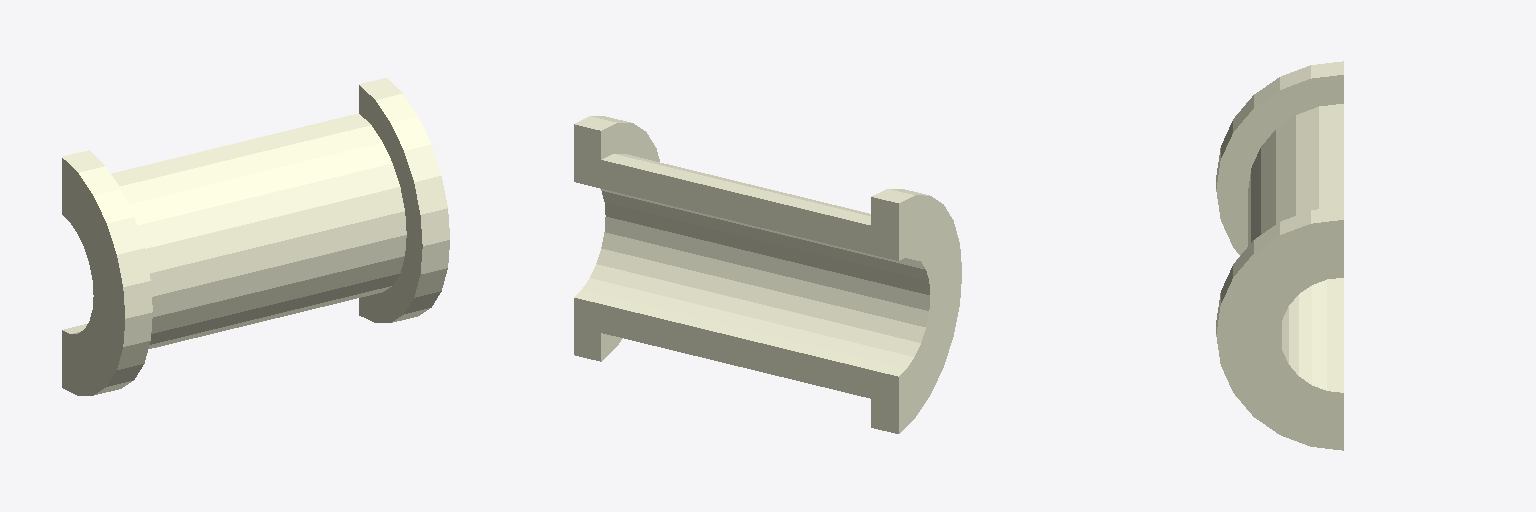
Rendered from section_011.obj.
3 renders of one model, left to right at view 1: azimuth 30°, elevation 25°; view 2: azimuth 150°, elevation 25°; view 3: azimuth 270°, elevation 25°, orthographic.
Size of the model in its own units: 11.78 by 8 by 4.